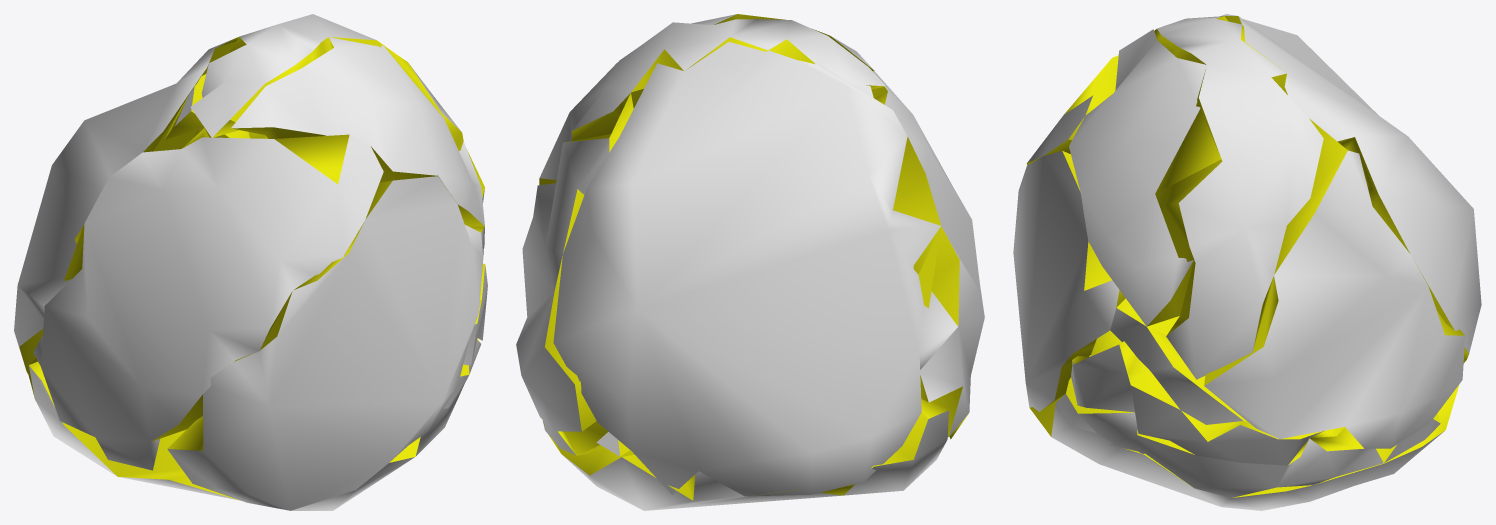
The model's file is DestroyableRock10PieceRock10Piece.fbx.
The picture shows the model from 3 angles, left to right: view 1: azimuth 30°, elevation 25°; view 2: azimuth 150°, elevation 25°; view 3: azimuth 270°, elevation 25°; orthographic projection.
Parts seen in each view (by area): view 1: shard18, shard22, shard17, shard15, shard21, shard23, shard24, shard19; view 2: shard15, shard18, shard24, shard21, shard23, shard20, shard17; view 3: shard24, shard21, shard17, shard15, shard22, shard20, shard19, shard23, shard25, shard18.
Part boxes in pixels (x1=…): shard18: x1=33, y1=128, x2=383, y2=470; shard22: x1=167, y1=176, x2=483, y2=510; shard17: x1=231, y1=37, x2=484, y2=226; shard15: x1=14, y1=37, x2=238, y2=377; shard21: x1=190, y1=14, x2=484, y2=202; shard23: x1=29, y1=358, x2=463, y2=510; shard24: x1=164, y1=74, x2=249, y2=139; shard19: x1=463, y1=263, x2=487, y2=365; shard15: x1=553, y1=37, x2=957, y2=496; shard18: x1=871, y1=71, x2=984, y2=439; shard24: x1=516, y1=83, x2=873, y2=431; shard21: x1=539, y1=19, x2=885, y2=184; shard23: x1=549, y1=399, x2=948, y2=510; shard20: x1=542, y1=420, x2=629, y2=456; shard17: x1=619, y1=14, x2=874, y2=70; shard24: x1=1204, y1=118, x2=1465, y2=448; shard21: x1=1154, y1=16, x2=1323, y2=379; shard17: x1=1069, y1=29, x2=1221, y2=326; shard15: x1=1220, y1=14, x2=1481, y2=363; shard22: x1=1013, y1=150, x2=1119, y2=411; shard20: x1=1056, y1=355, x2=1440, y2=497; shard19: x1=1071, y1=330, x2=1344, y2=465; shard23: x1=1030, y1=384, x2=1459, y2=510; shard25: x1=1110, y1=290, x2=1247, y2=424; shard18: x1=1026, y1=55, x2=1118, y2=165.
Size of the model in its own units: 462 by 431 by 440.
